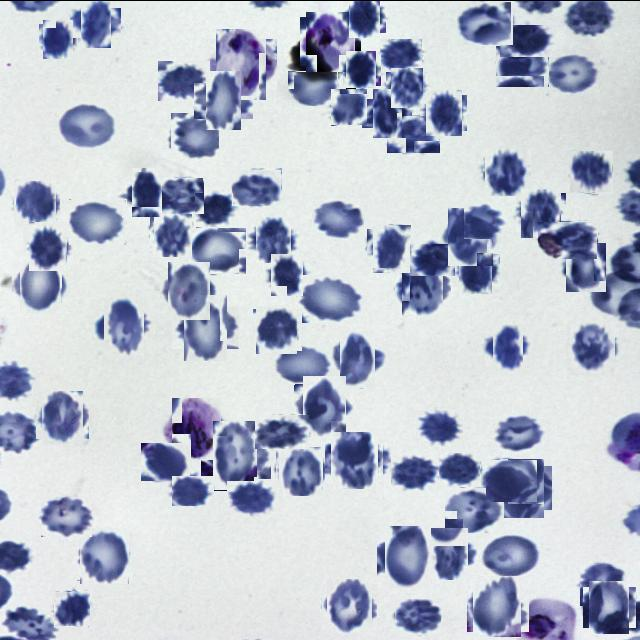difficult: (168, 400, 224, 456)
red blood cell: (207, 426, 264, 484), (296, 274, 362, 322), (470, 578, 526, 634), (381, 528, 436, 584), (178, 299, 233, 354), (57, 100, 118, 148), (78, 528, 132, 582), (298, 379, 351, 432), (481, 534, 542, 580), (445, 486, 505, 532), (189, 226, 247, 273), (496, 461, 548, 513), (328, 434, 380, 486), (445, 210, 497, 262), (69, 198, 127, 244), (324, 581, 375, 631), (164, 265, 214, 316), (16, 258, 66, 308), (398, 262, 448, 312), (99, 301, 148, 351), (457, 0, 512, 44), (546, 51, 600, 95), (569, 324, 617, 372), (200, 76, 248, 124), (538, 220, 598, 258), (38, 394, 86, 441), (496, 44, 549, 86), (586, 583, 633, 630), (334, 336, 382, 382), (278, 446, 324, 494), (171, 112, 219, 158), (272, 346, 330, 384), (484, 148, 530, 195), (486, 459, 537, 501), (313, 197, 365, 238), (254, 306, 300, 352), (158, 60, 210, 100), (41, 496, 92, 536), (427, 530, 472, 575), (518, 190, 564, 234), (387, 114, 440, 152), (563, 244, 608, 288), (369, 225, 414, 269), (391, 450, 440, 490), (26, 223, 70, 267), (255, 413, 310, 448), (14, 182, 58, 225), (580, 563, 625, 605), (227, 480, 279, 516), (141, 442, 190, 480), (232, 168, 282, 205), (570, 150, 613, 193), (495, 412, 543, 450), (500, 24, 556, 56), (422, 91, 464, 133), (152, 212, 194, 254), (288, 70, 338, 105), (417, 410, 463, 448), (395, 597, 442, 634), (253, 219, 294, 260), (128, 170, 168, 212), (456, 249, 496, 290), (75, 2, 116, 42), (368, 92, 407, 132), (162, 176, 204, 213), (439, 451, 482, 486), (488, 328, 526, 367), (410, 243, 455, 275), (380, 38, 422, 72), (330, 88, 368, 125), (268, 255, 305, 292), (388, 68, 424, 105), (54, 590, 90, 626), (346, 0, 384, 34), (464, 204, 502, 238), (172, 475, 214, 505), (195, 192, 233, 225), (41, 21, 76, 56), (344, 52, 378, 87)
trophozoite: (211, 33, 272, 94), (303, 13, 358, 68)
